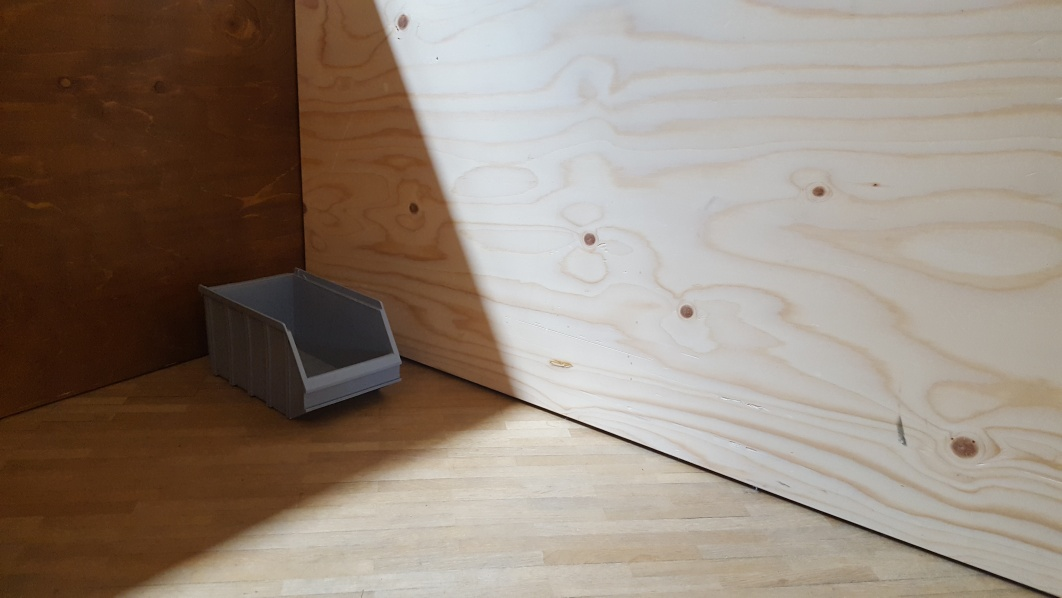tray: (194, 266, 405, 418)
